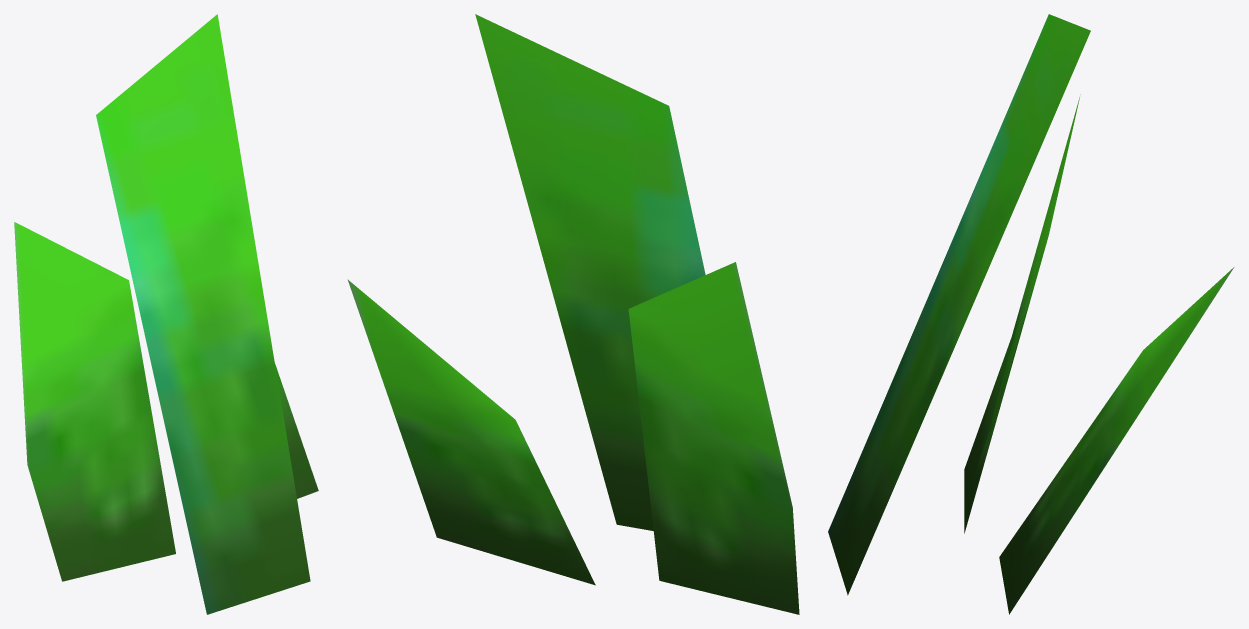
The model's file is fg_grassB.dae.
3 renders of one model, left to right at view 1: azimuth 30°, elevation 25°; view 2: azimuth 150°, elevation 25°; view 3: azimuth 270°, elevation 25°, orthographic. The views are drawn at different scales.
Visible parts, largest first — view 1: fg_grassB; view 2: fg_grassB; view 3: fg_grassB.
Boxes of the visible parts, x1,y1,x2,y2 form: fg_grassB: [14, 14, 318, 614]; fg_grassB: [347, 14, 799, 614]; fg_grassB: [828, 14, 1234, 614].
Size of the model in its own units: 13.26 by 21.31 by 13.76.
Materials: 1 (1 with a texture image).
